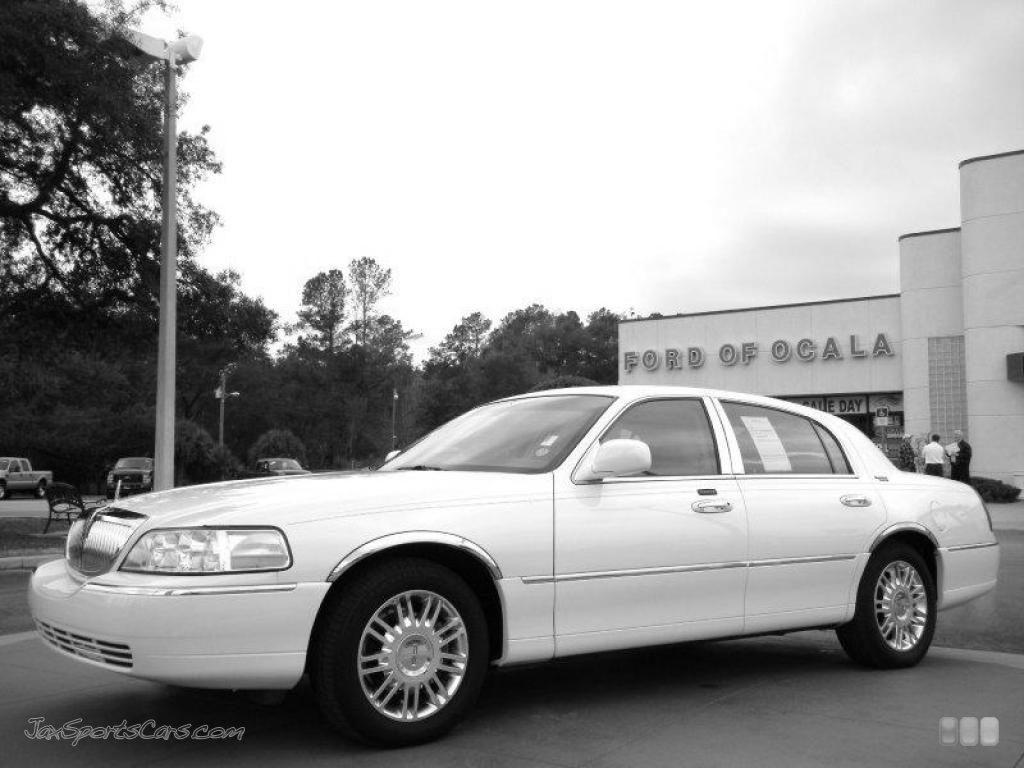car: (26, 375, 1001, 734)
